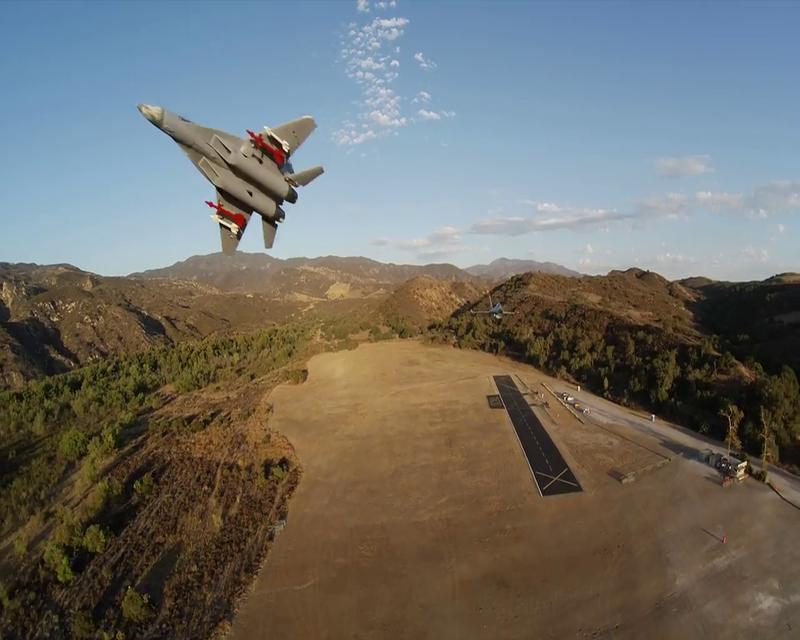UAV: (134, 101, 325, 256), (470, 294, 518, 320)
